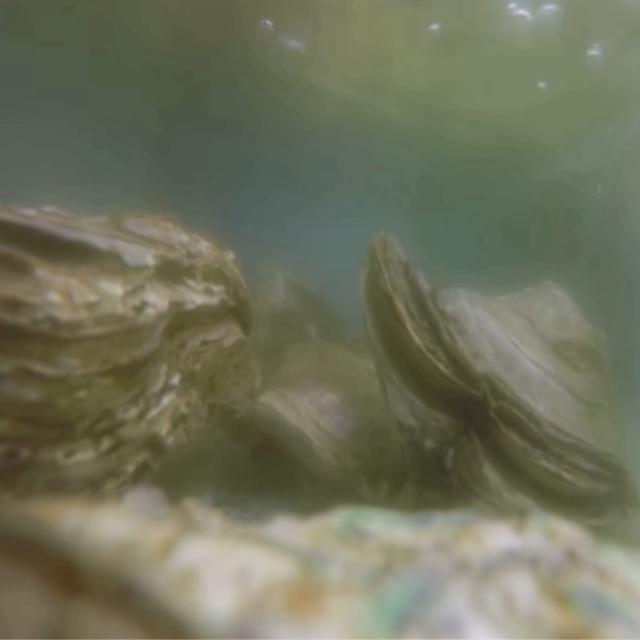Oyster-Closed: (0, 201, 262, 522)
Oyster-Indeterminate: (0, 482, 640, 640), (251, 339, 417, 516)
Oyster-Open: (353, 229, 640, 539)
